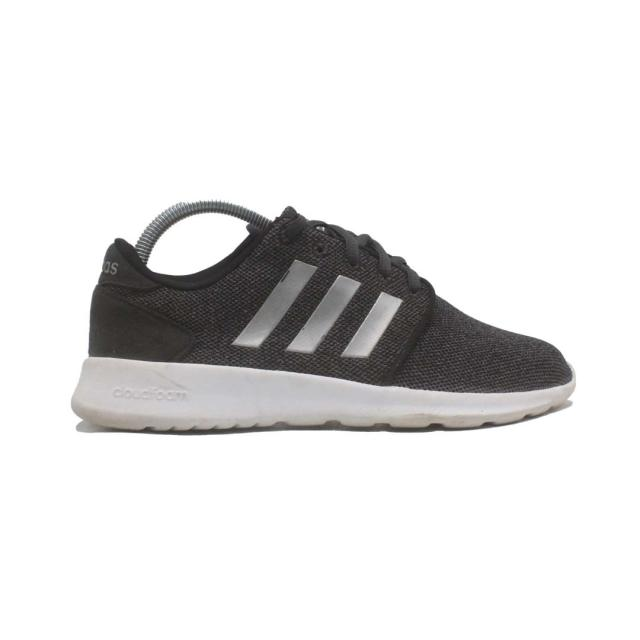heel: (83, 241, 153, 357)
midsole: (74, 353, 571, 435)
uppersole: (144, 209, 571, 387)
